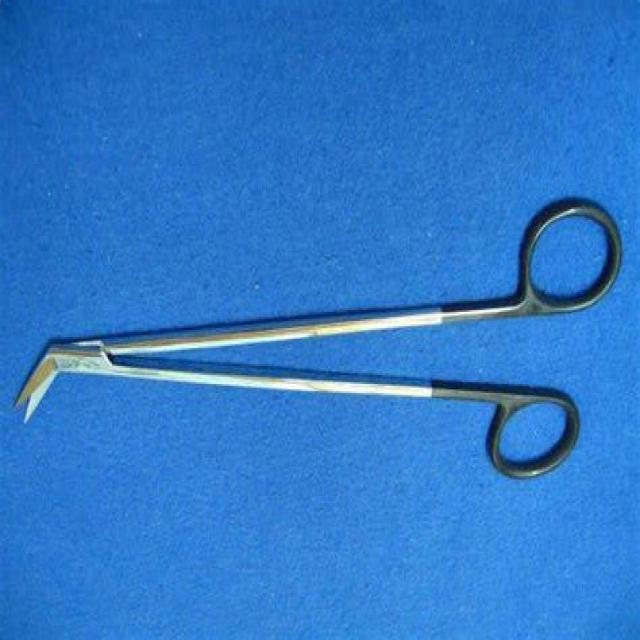Potts: (11, 186, 630, 488)
